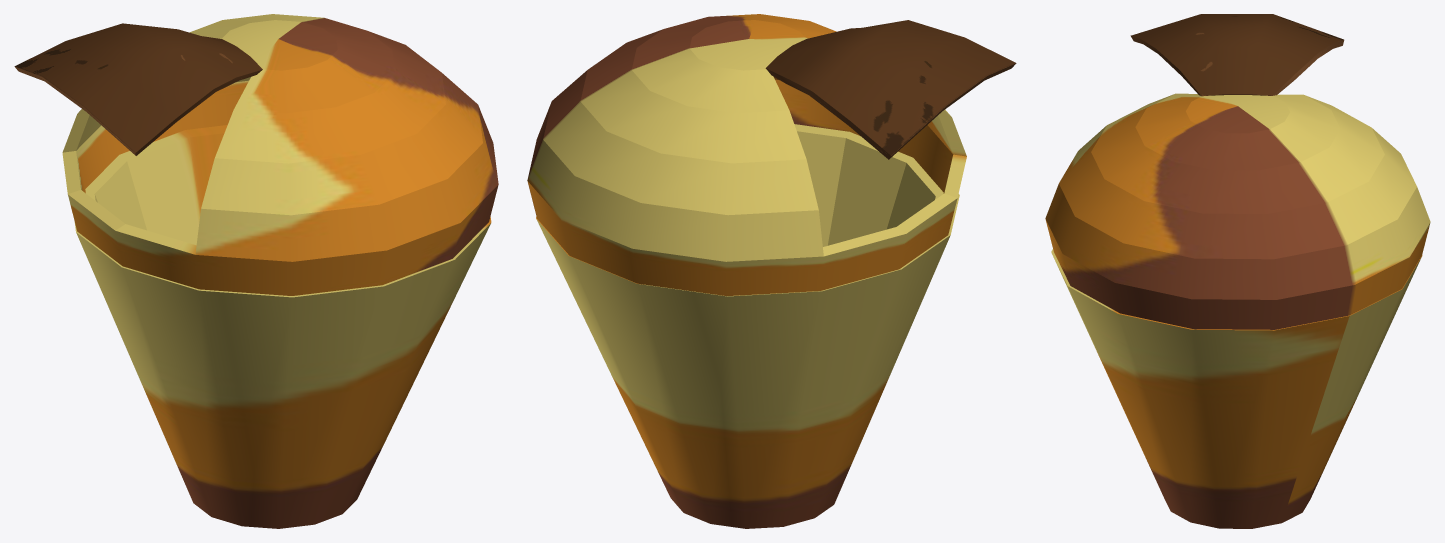
File: bin.fbx
3 renders of one model, left to right at view 1: azimuth 30°, elevation 25°; view 2: azimuth 150°, elevation 25°; view 3: azimuth 270°, elevation 25°, orthographic. The views are drawn at different scales.
Visible parts, largest first — view 1: bin_lid1, bin, bin_flap; view 2: bin_lid1, bin, bin_flap; view 3: bin_lid1, bin, bin_flap.
Part boxes in pixels (x1,y1,x2,y2): bin_lid1: [62, 14, 498, 295]; bin: [74, 125, 491, 528]; bin_flap: [14, 23, 262, 155]; bin_lid1: [527, 14, 966, 295]; bin: [536, 124, 959, 528]; bin_flap: [765, 20, 1016, 159]; bin_lid1: [1045, 93, 1430, 329]; bin: [1051, 249, 1422, 528]; bin_flap: [1130, 14, 1344, 96].
Bounding box in the file's own units: 5.97 × 6.81 × 5.64.
